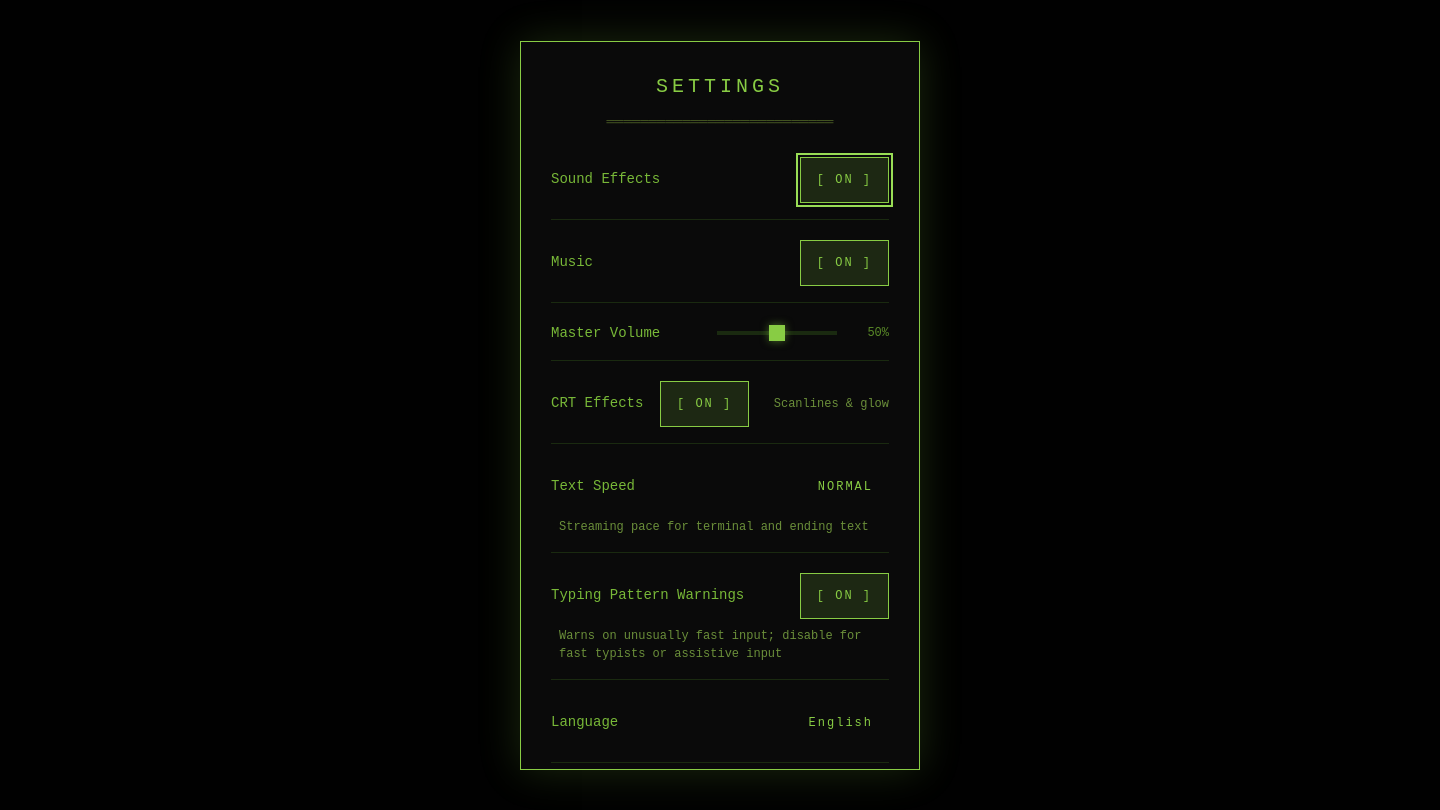
it: SettingsModal › toggles CRT effects and saves to shared options storage
Note: Click to toggle OFF
Click the button "[ ON ]" next to "CRT Effects" at (705,404), box [660, 380, 749, 426]
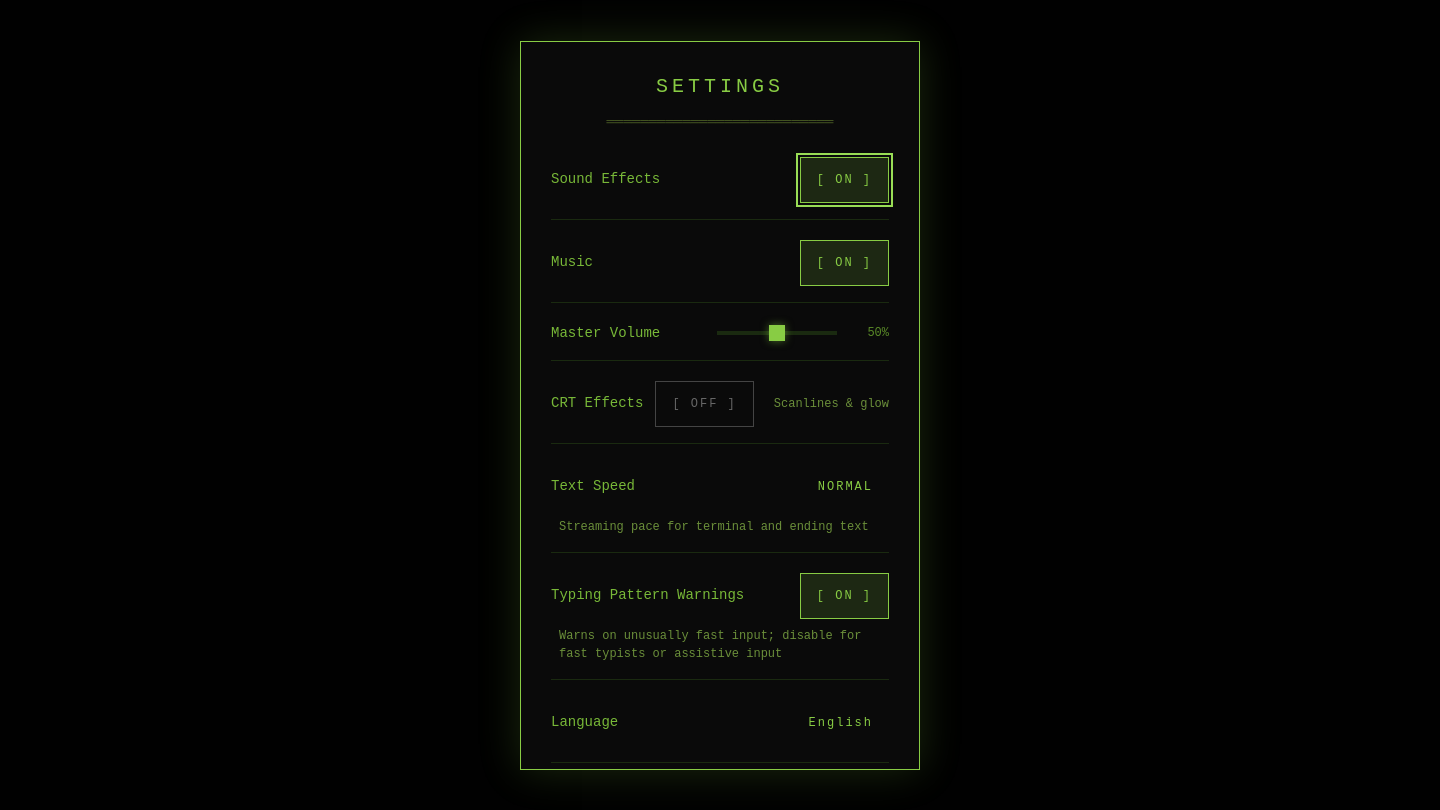
Expected: the button "[ OFF ]" is shown, [655, 380, 754, 426]
